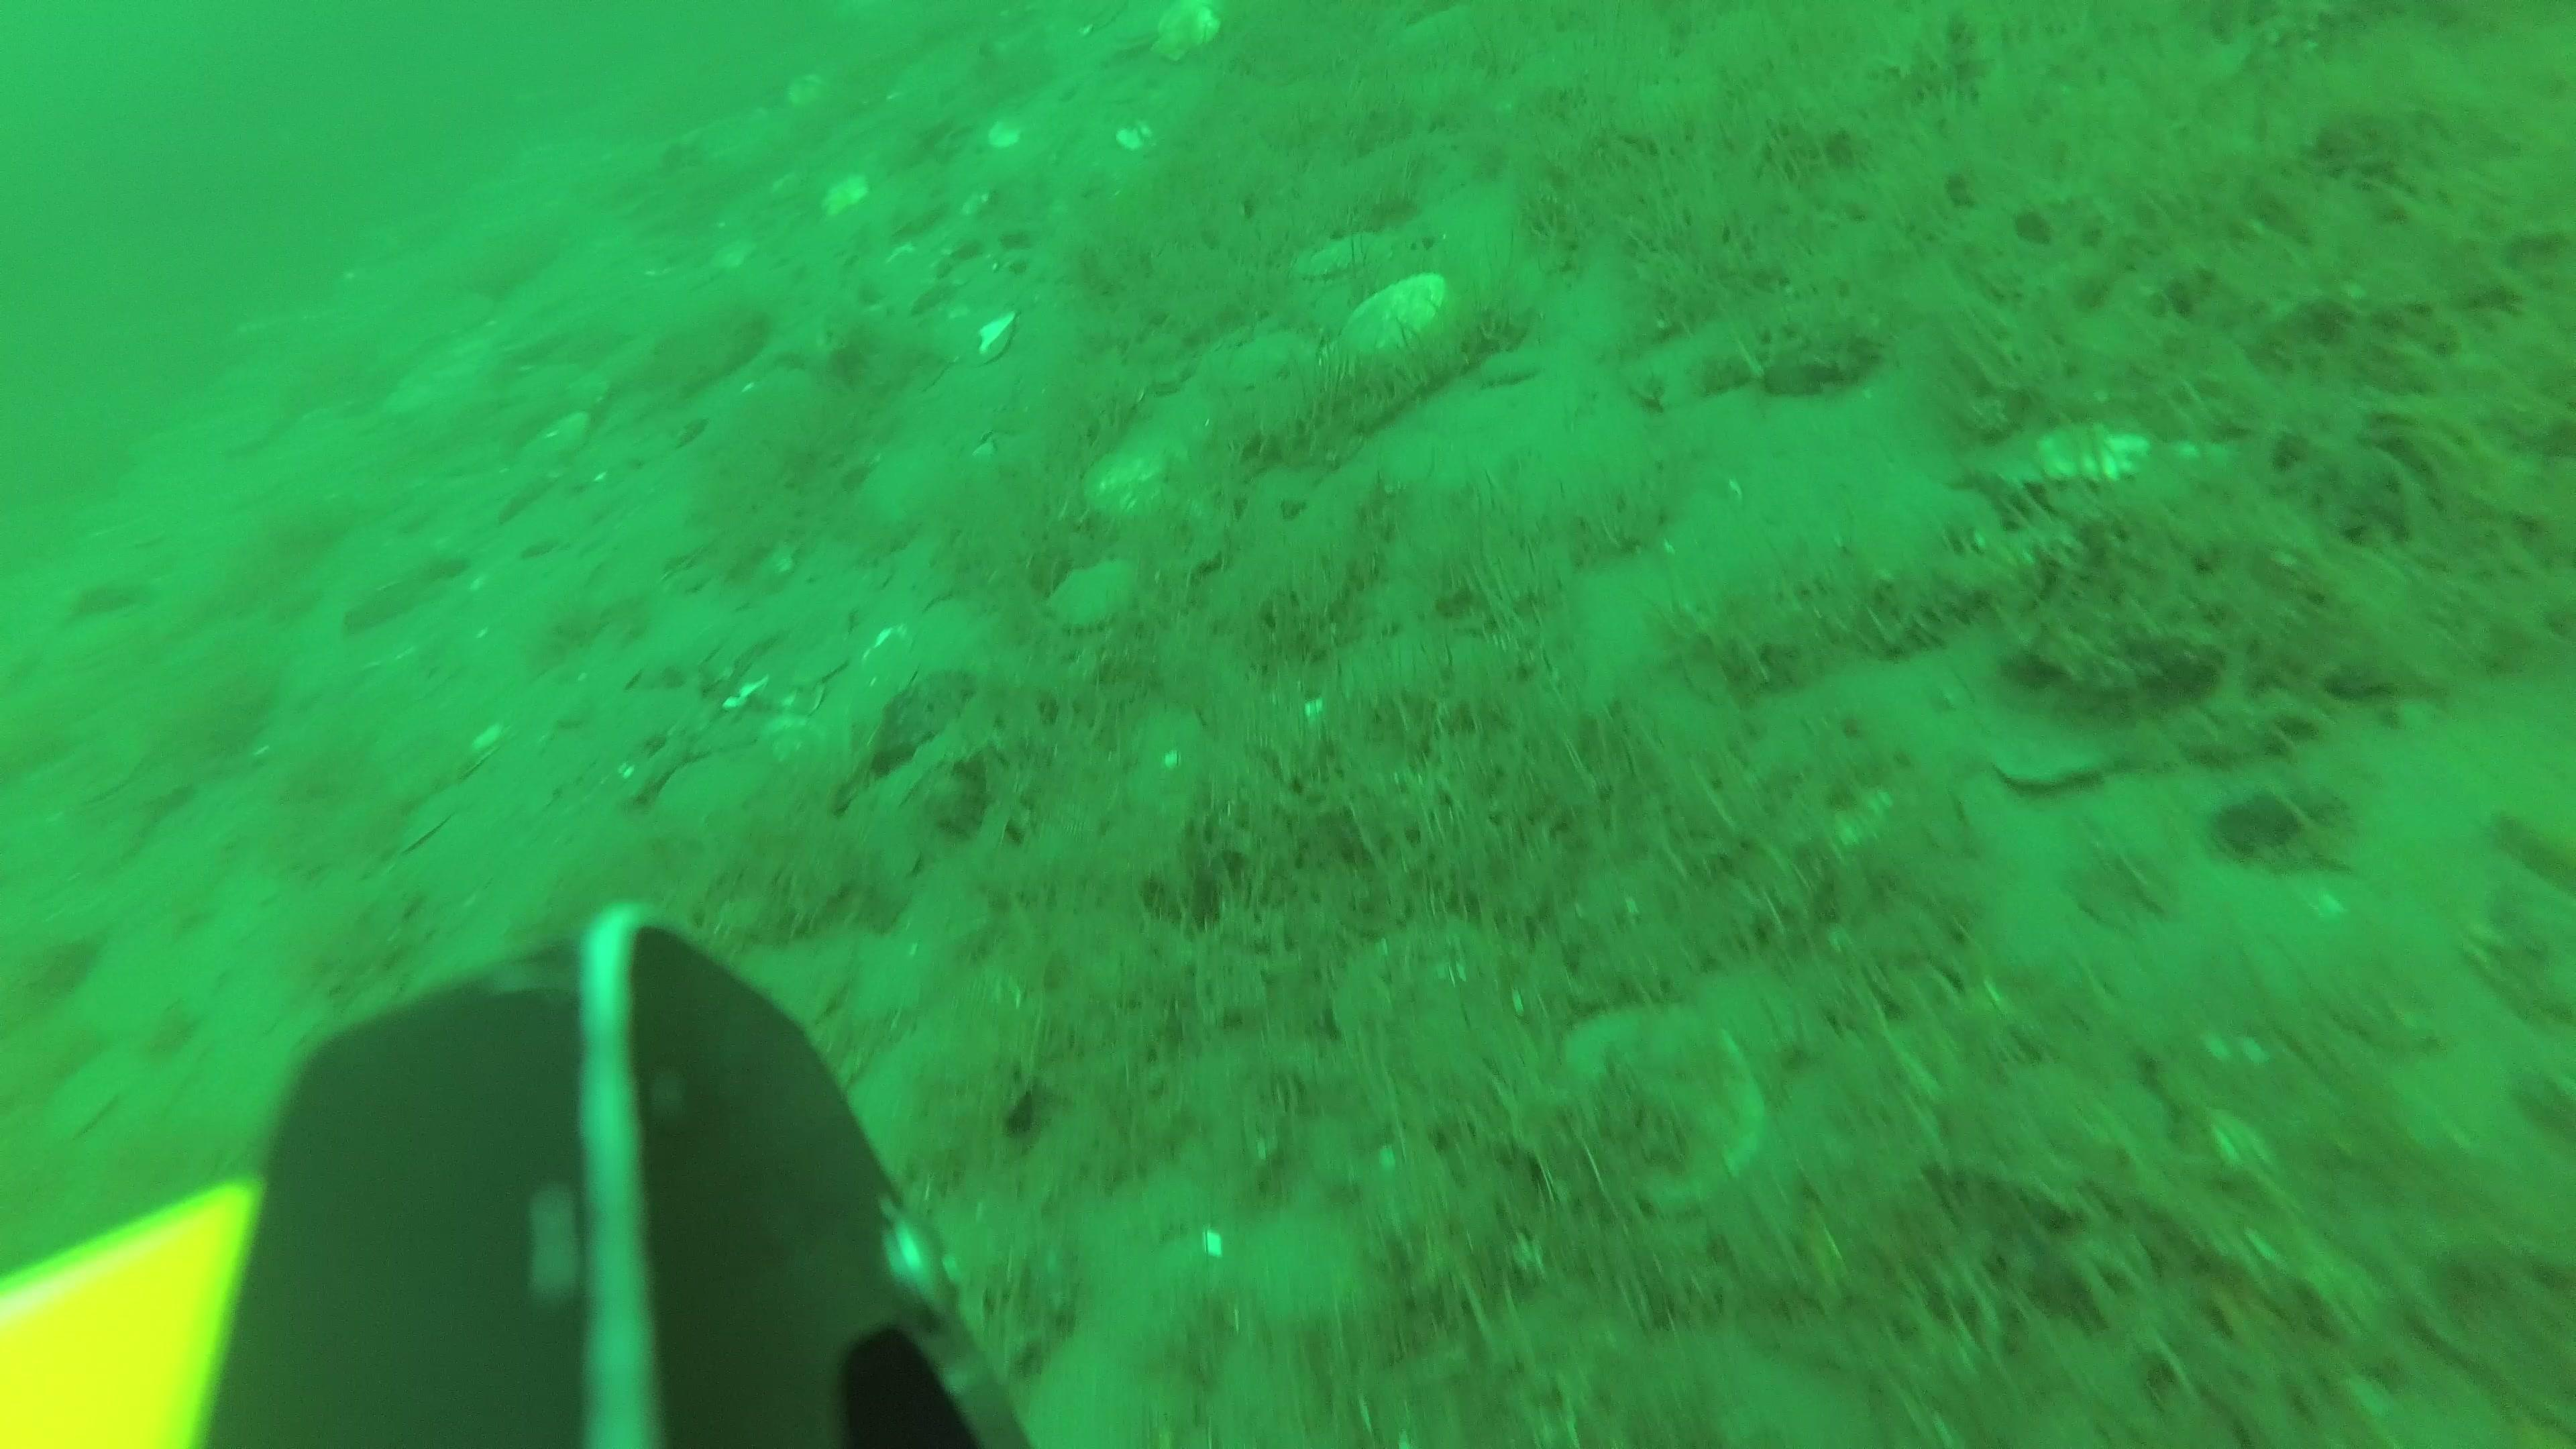scallop: (1345, 274, 1454, 364), (1083, 446, 1182, 522), (1046, 561, 1138, 630), (1155, 0, 1226, 58), (1286, 234, 1396, 271), (823, 168, 869, 211)
